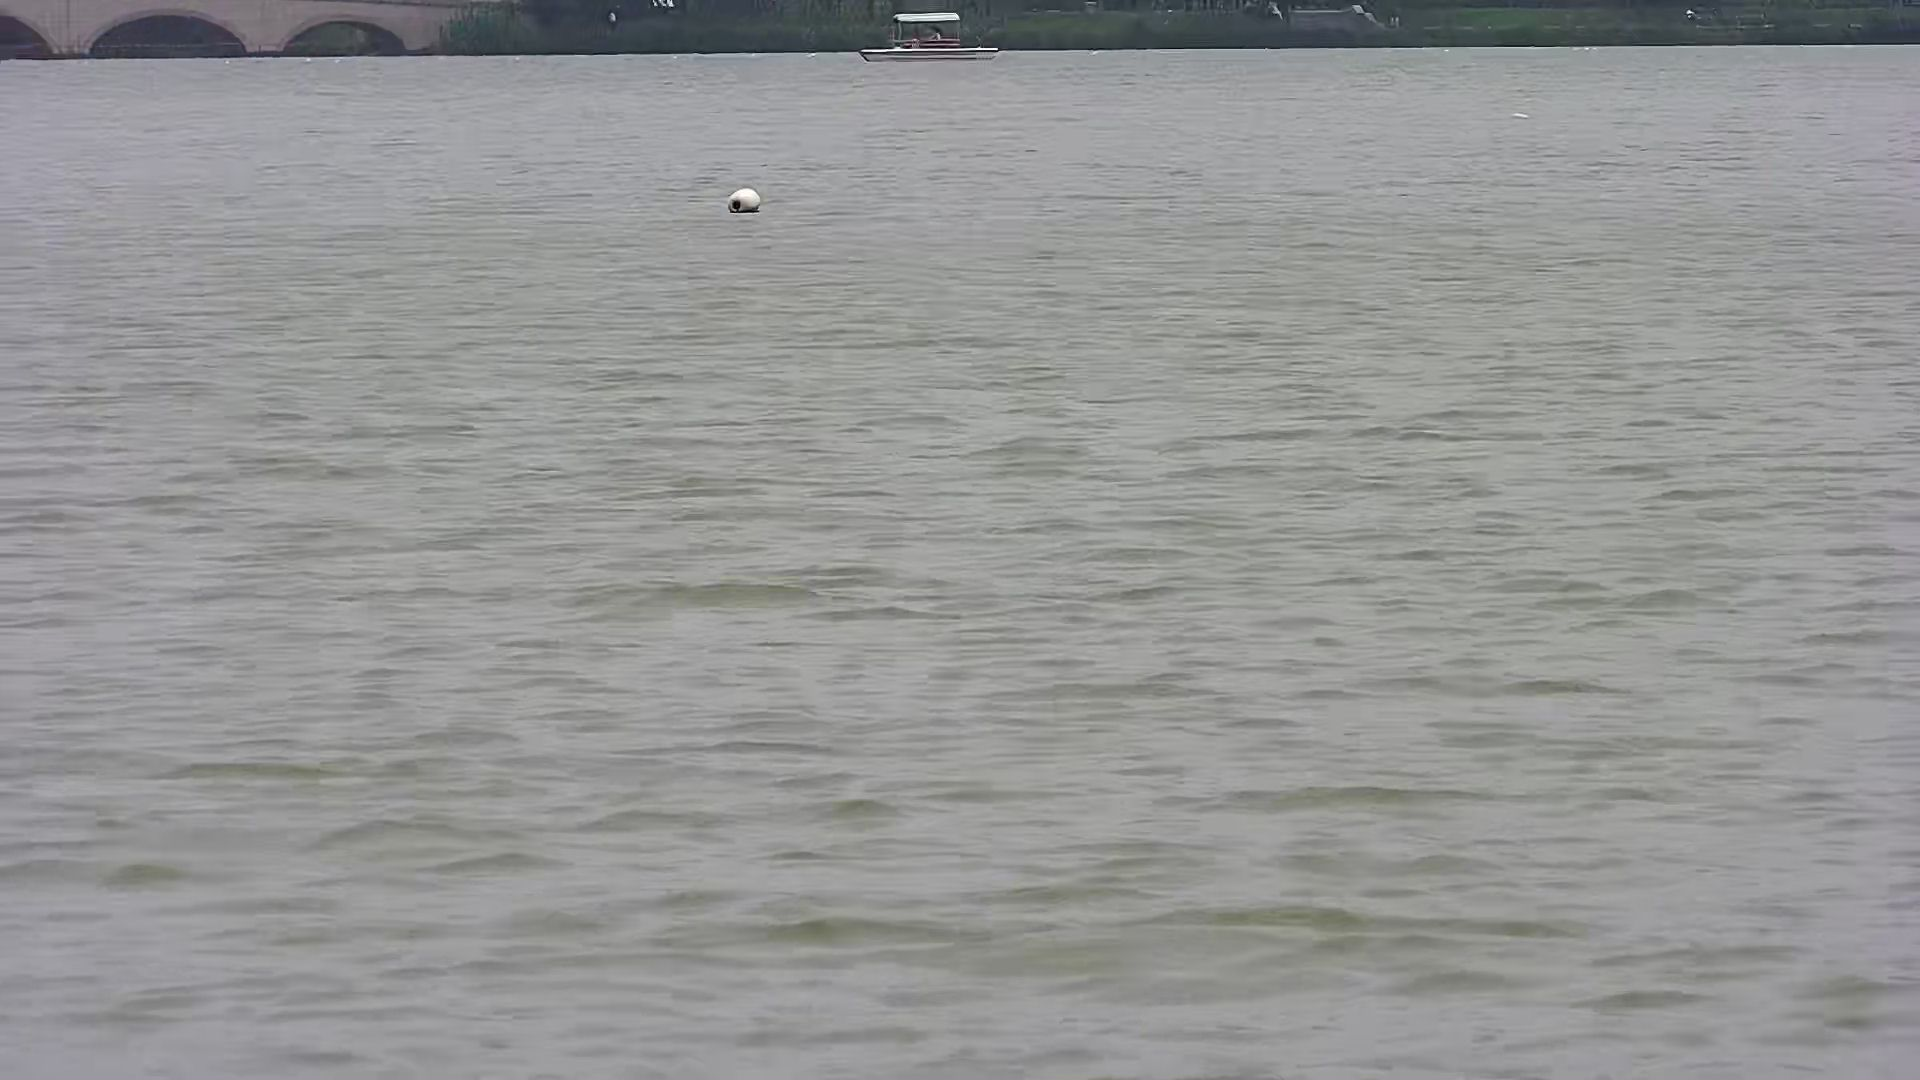boat: (857, 7, 1004, 59)
rubbish: (723, 179, 765, 216)
